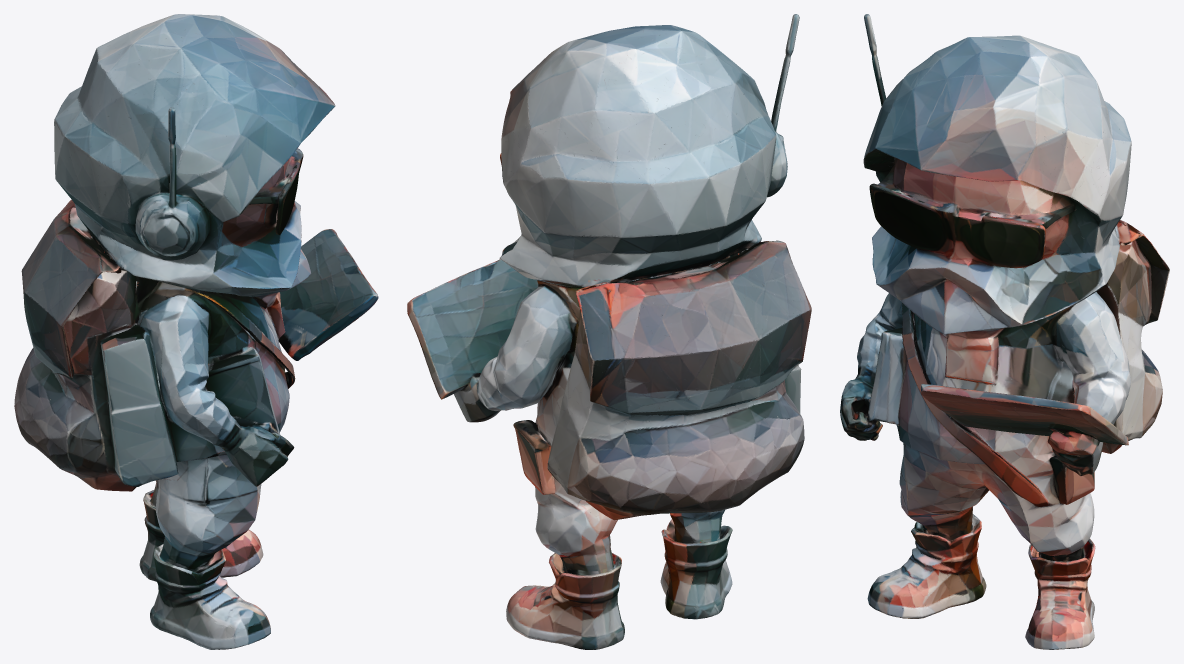
The model's file is editorial.glb.
3 views of the same model, side by side, from view 1: azimuth 30°, elevation 25°; view 2: azimuth 150°, elevation 25°; view 3: azimuth 270°, elevation 25° (orthographic). The views are drawn at different scales.
Visible parts, largest first — view 1: input; view 2: input; view 3: input.
Part boxes in pixels (x1,y1,x2,y2): input: [14, 14, 378, 649]; input: [407, 14, 811, 649]; input: [840, 14, 1169, 649].
Bounding box in the file's own units: 0.6111 × 0.9999 × 0.53.
1 material, 1 textured.
